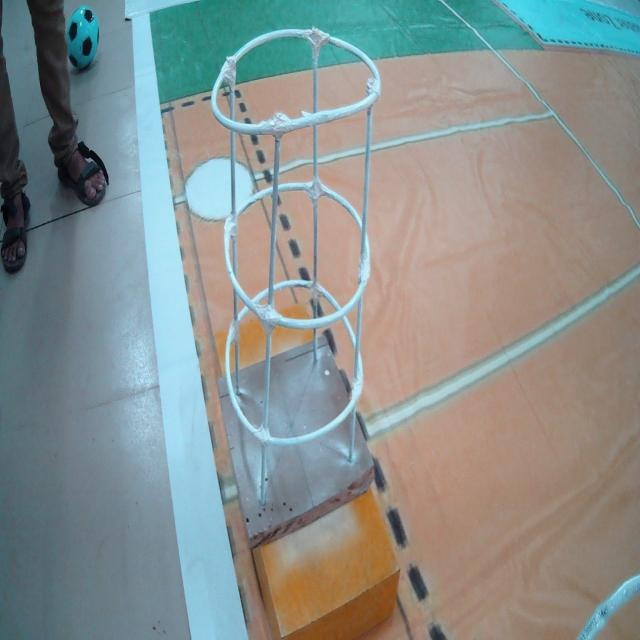silo: (218, 30, 386, 525)
